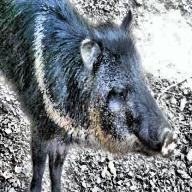boar: (0, 0, 180, 187)
